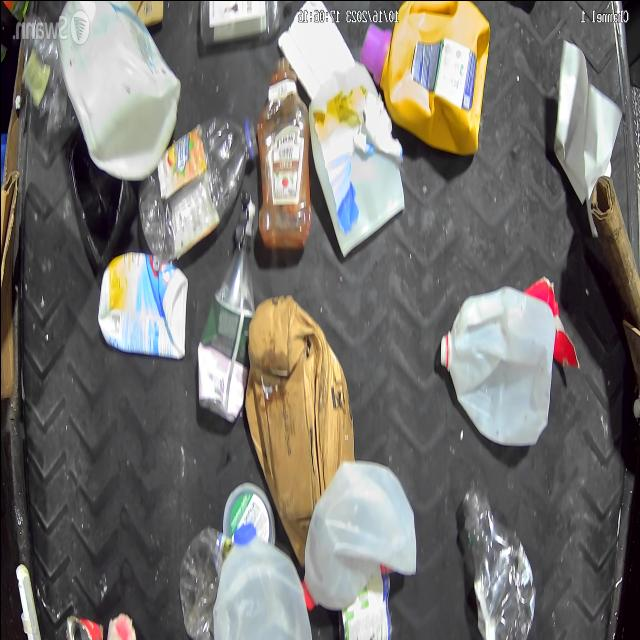milk_jug: (55, 3, 182, 170), (438, 284, 554, 446), (303, 456, 420, 604), (213, 520, 307, 640)
non_white_jug: (360, 0, 496, 150)
plastic_bottle: (142, 105, 264, 251), (464, 481, 534, 640)
